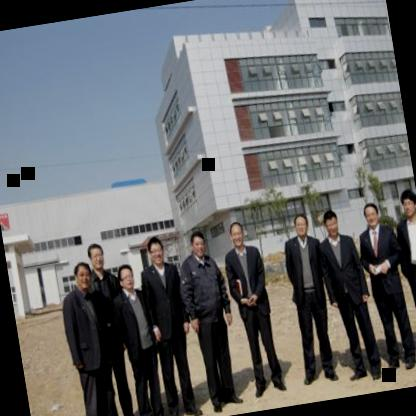head: (70, 258, 94, 296), (144, 233, 170, 267), (84, 238, 108, 273), (113, 262, 138, 294), (186, 226, 209, 260), (362, 198, 384, 233), (320, 206, 342, 241), (396, 184, 416, 222), (226, 219, 248, 252), (292, 208, 312, 240)
